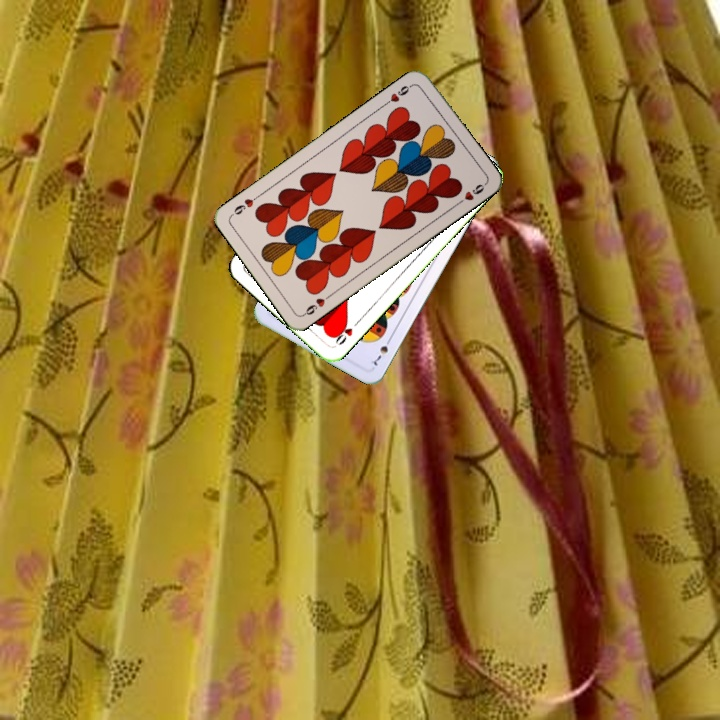H9: (380, 80, 416, 108), (299, 290, 334, 318)
HO: (329, 316, 362, 349)
S7: (368, 333, 394, 369)
